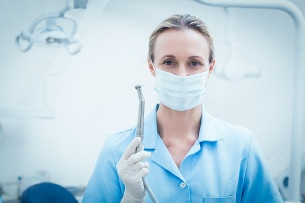Mask: (153, 51, 211, 110)
